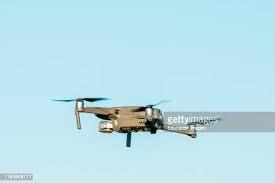drone: (48, 96, 213, 149)
